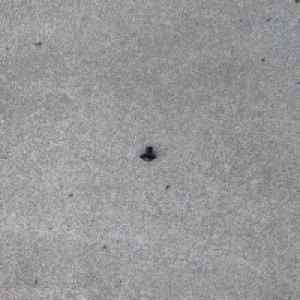BoltWasher: (138, 146, 157, 161)
